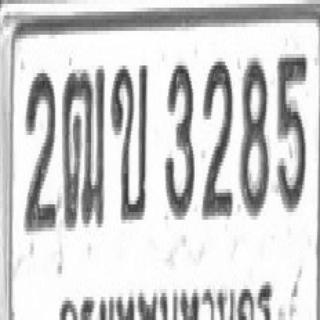A02: (110, 60, 148, 222)
A18: (61, 64, 106, 229)
N02: (201, 56, 233, 218), (24, 69, 56, 231)
N03: (164, 60, 194, 218)
N05: (277, 50, 307, 212)
N08: (239, 54, 269, 216)
